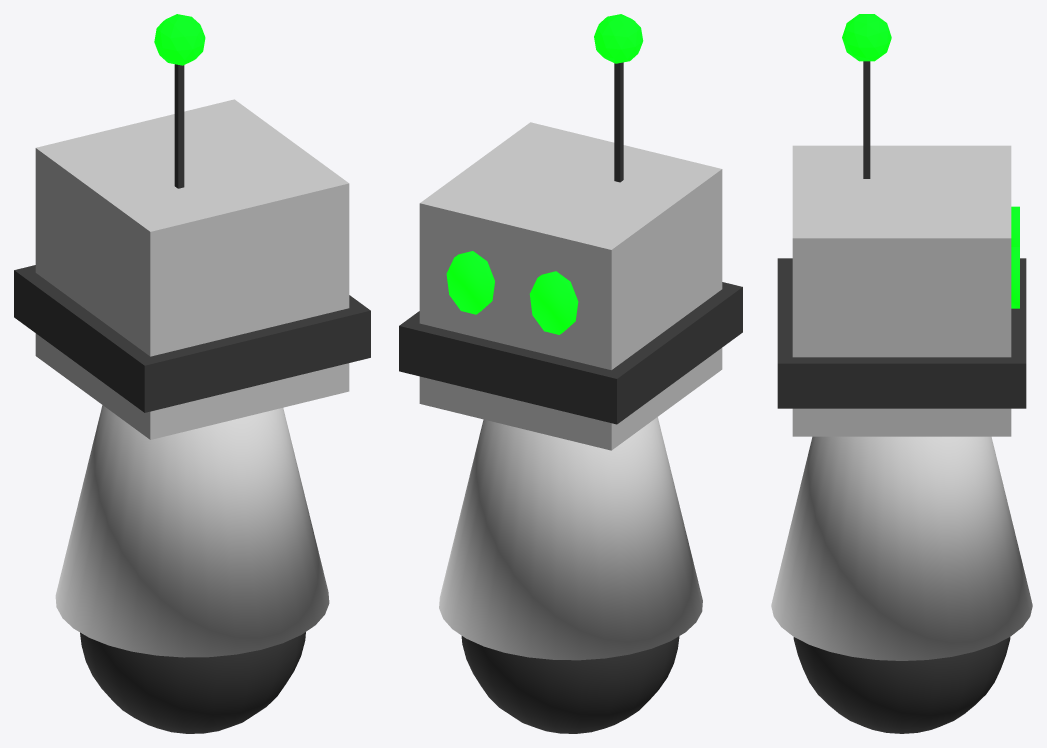
The model's file is Droid.fbx.
3 views of the same model, side by side, from view 1: azimuth 30°, elevation 25°; view 2: azimuth 150°, elevation 25°; view 3: azimuth 270°, elevation 25° (orthographic). The views are drawn at different scales.
Parts seen in each view (by area): view 1: Droid; view 2: Droid; view 3: Droid.
Part boxes in pixels (left/top/right/bottom): Droid: left=14, top=14, right=370, bottom=733; Droid: left=399, top=14, right=742, bottom=733; Droid: left=771, top=14, right=1032, bottom=733.
Bounding box in the file's own units: 61.28 × 179 × 61.28.
